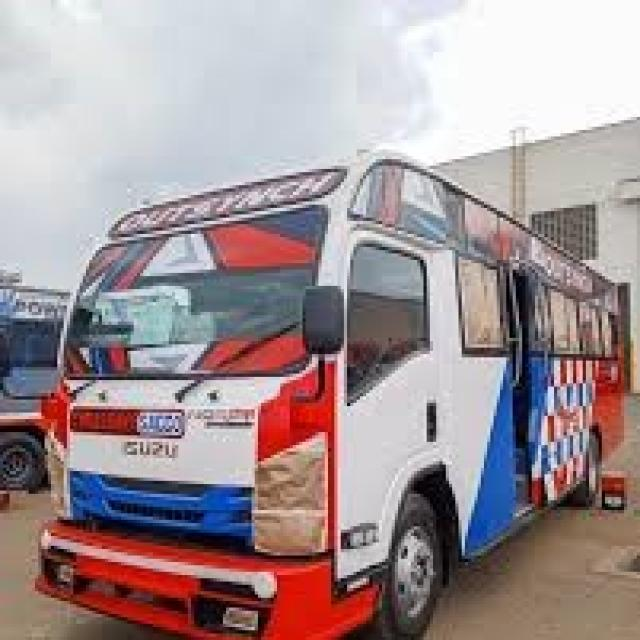bus: (0, 87, 632, 640)
